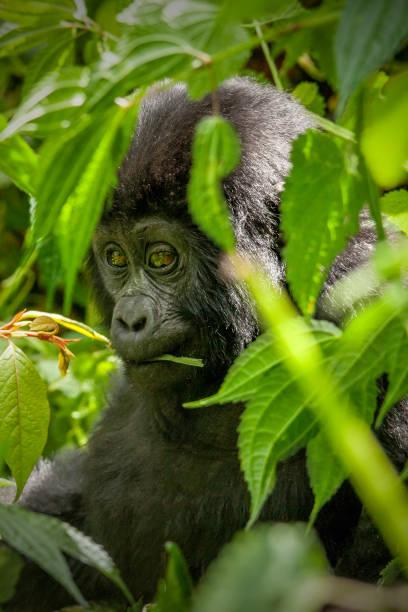goriile_montagne: (52, 60, 404, 589)
